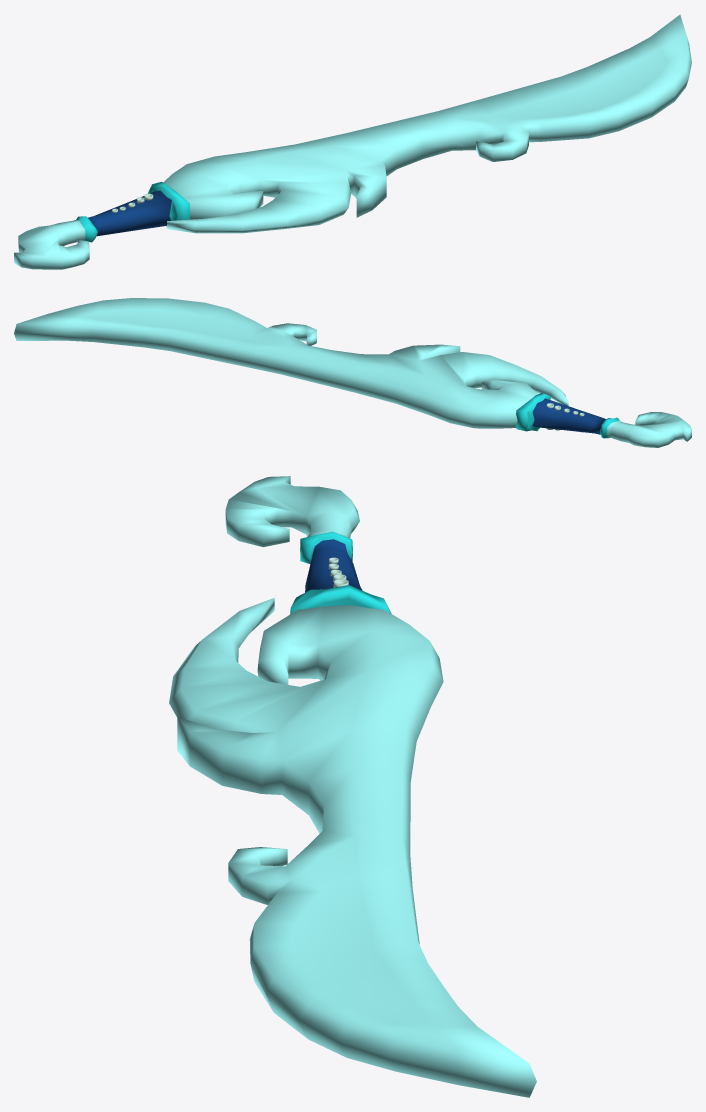
File: weapon.glb
3 renders of one model, top to bottom at view 1: azimuth 30°, elevation 25°; view 2: azimuth 150°, elevation 25°; view 3: azimuth 270°, elevation 25°, orthographic. The views are drawn at different scales.
Parts seen in each view (by area): view 1: weapon; view 2: weapon; view 3: weapon.
Part boxes in pixels (x1,y1,x2,y2): weapon: (14, 14, 691, 269); weapon: (14, 298, 691, 447); weapon: (169, 476, 536, 1097).
Bounding box in the file's own units: 7.04 × 0.3486 × 1.83.
